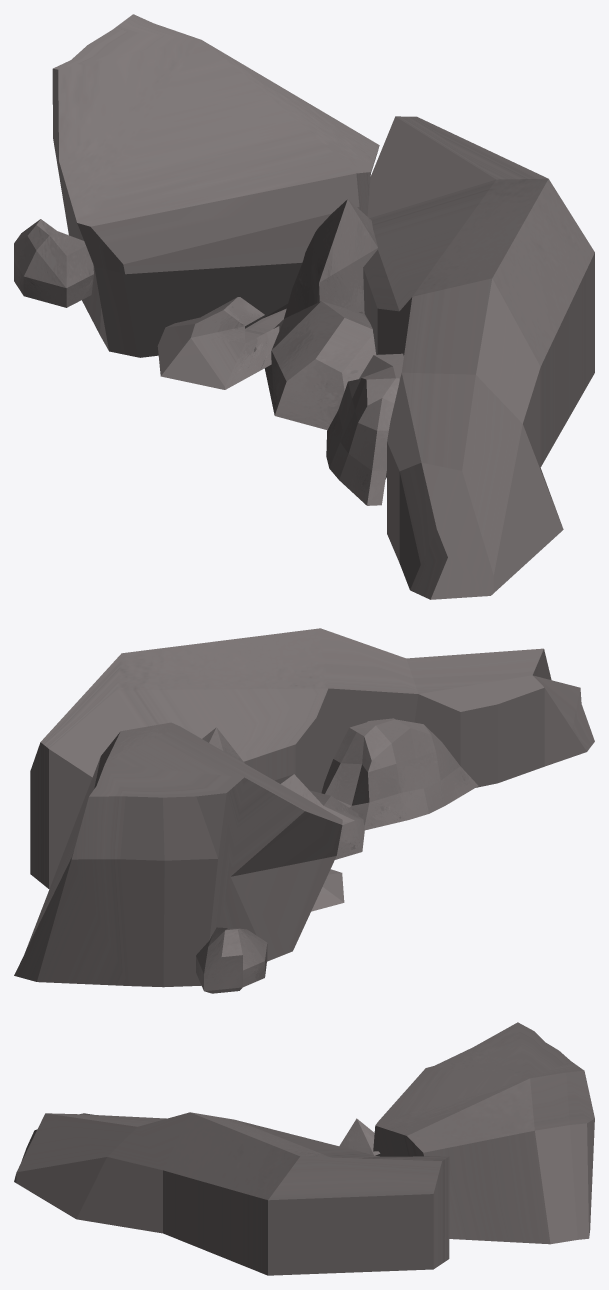
Rendered from StoneSet_02.fbx.
The picture shows the model from 3 angles, top to bottom: view 1: azimuth 30°, elevation 25°; view 2: azimuth 150°, elevation 25°; view 3: azimuth 270°, elevation 25°; orthographic projection. The views are drawn at different scales.
Parts seen in each view (by area): view 1: Cube.048; view 2: Cube.048; view 3: Cube.048.
Boxes of the visible parts, x1,y1,x2,y2 form: Cube.048: (14, 14, 594, 599); Cube.048: (14, 628, 594, 993); Cube.048: (14, 1022, 594, 1275).
Bounding box in the file's own units: 259 × 156 × 540.
